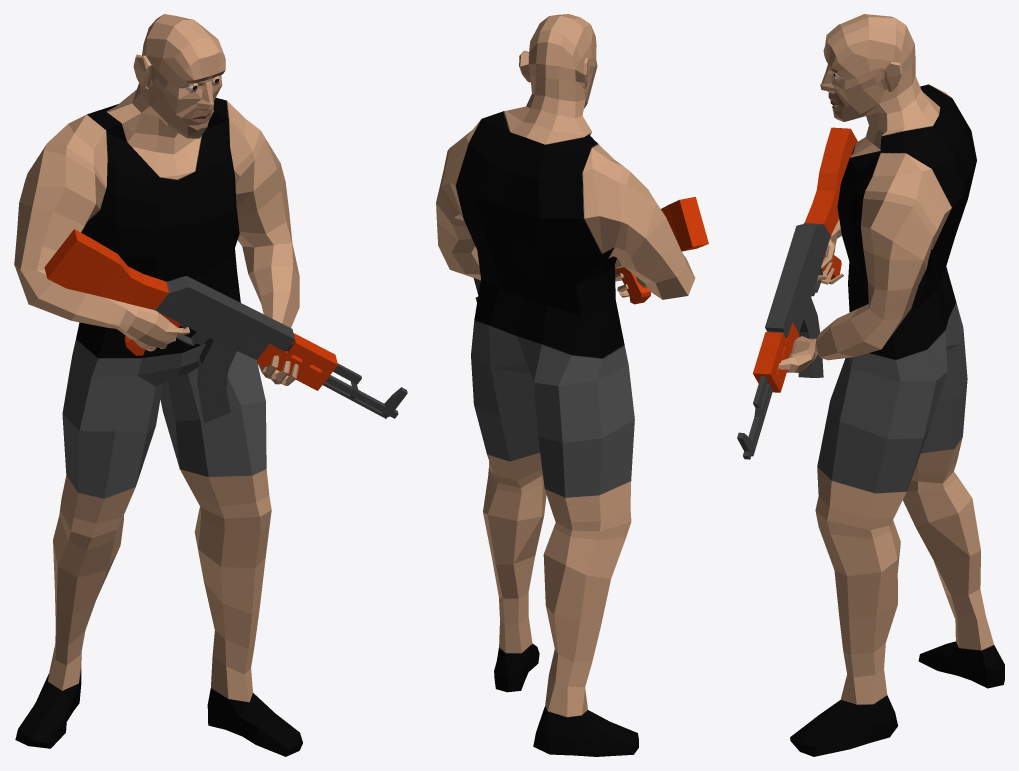
Rendered from PlayerIdle(106).obj.
3 renders of one model, left to right at view 1: azimuth 30°, elevation 25°; view 2: azimuth 150°, elevation 25°; view 3: azimuth 270°, elevation 25°, orthographic. The views are drawn at different scales.
Visible parts, largest first — view 1: Plane002, Object001; view 2: Plane002, Object001; view 3: Plane002, Object001.
Boxes of the visible parts, box(x1,y1,x2,y2) form: Plane002: box(14, 14, 302, 756); Object001: box(44, 229, 407, 423); Plane002: box(436, 14, 695, 756); Object001: box(473, 196, 708, 304); Plane002: box(778, 14, 1004, 756); Object001: box(737, 127, 857, 459).
Size of the model in its own units: 802 by 1803 by 628.
